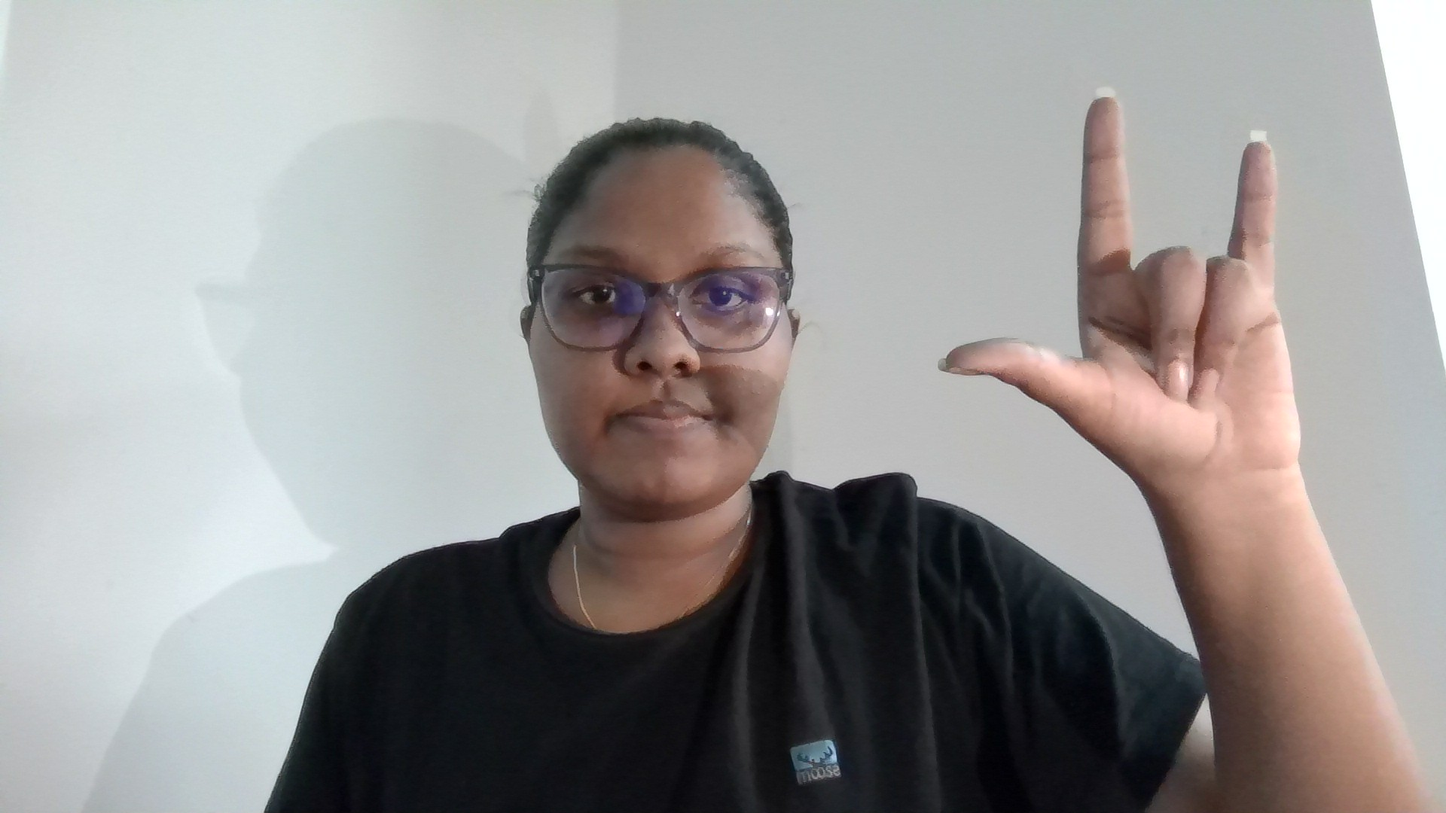I Love You: (881, 55, 1381, 506)
